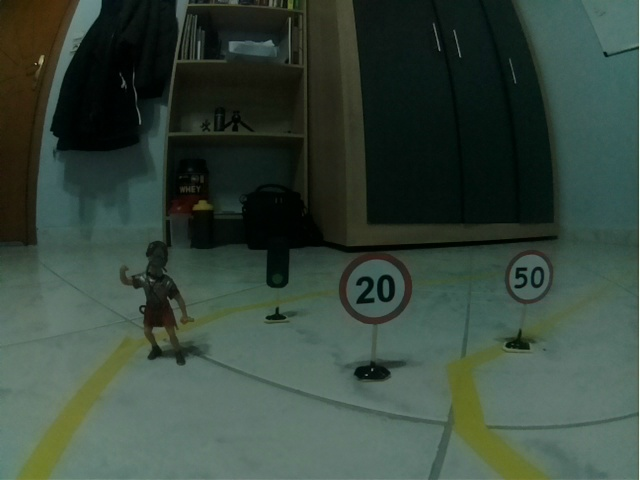Green Traffic Light: (266, 229, 291, 289)
Person: (119, 240, 195, 366)
Speed Limit 20: (339, 253, 413, 325)
Speed Limit 50: (504, 250, 554, 305)
